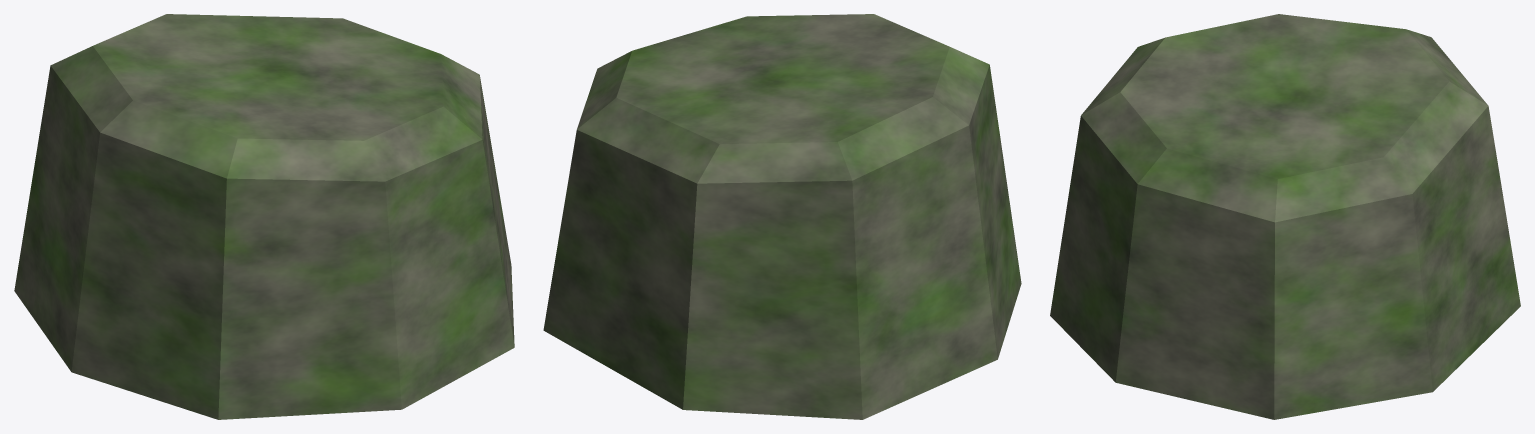
File: BatuDatar.fbx
3 renders of one model, left to right at view 1: azimuth 30°, elevation 25°; view 2: azimuth 150°, elevation 25°; view 3: azimuth 270°, elevation 25°, orthographic. The views are drawn at different scales.
Visible parts, largest first — view 1: BatuDatar; view 2: BatuDatar; view 3: BatuDatar.
Boxes of the visible parts, x1,y1,x2,y2 form: BatuDatar: (14, 14, 514, 419); BatuDatar: (543, 14, 1021, 419); BatuDatar: (1050, 14, 1520, 419).
Bounding box in the file's own units: 210 × 116 × 210.
1 material, 1 textured.
